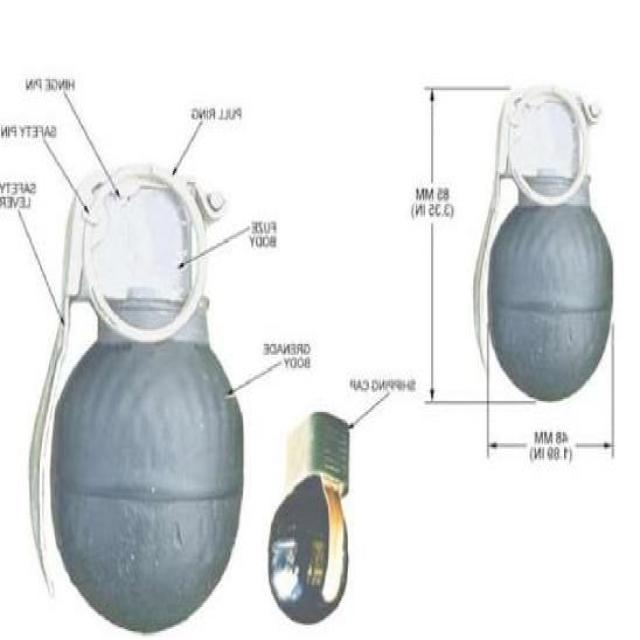grenade: (29, 165, 245, 635), (473, 86, 615, 404), (267, 411, 354, 630)
